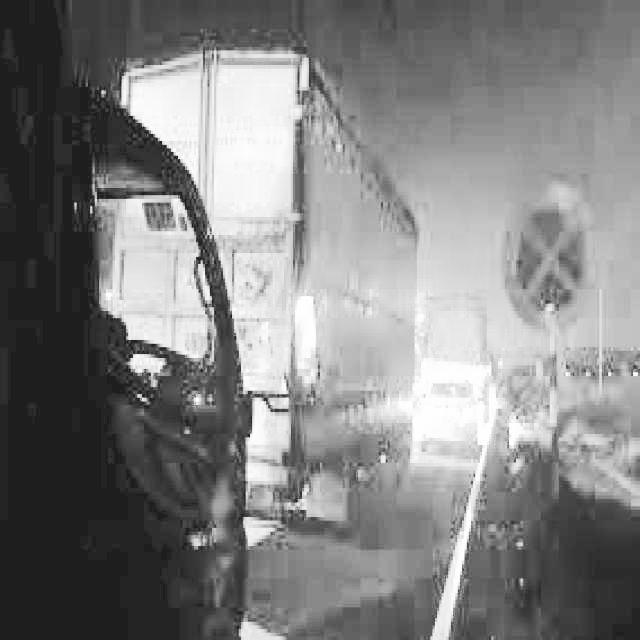Truck: (95, 40, 420, 518)
